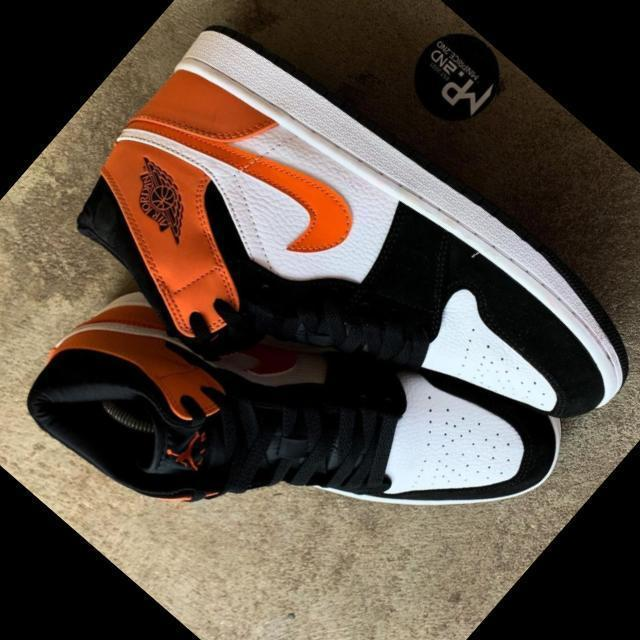nike fake jordan 1: (30, 0, 640, 585), (2, 127, 600, 640)
